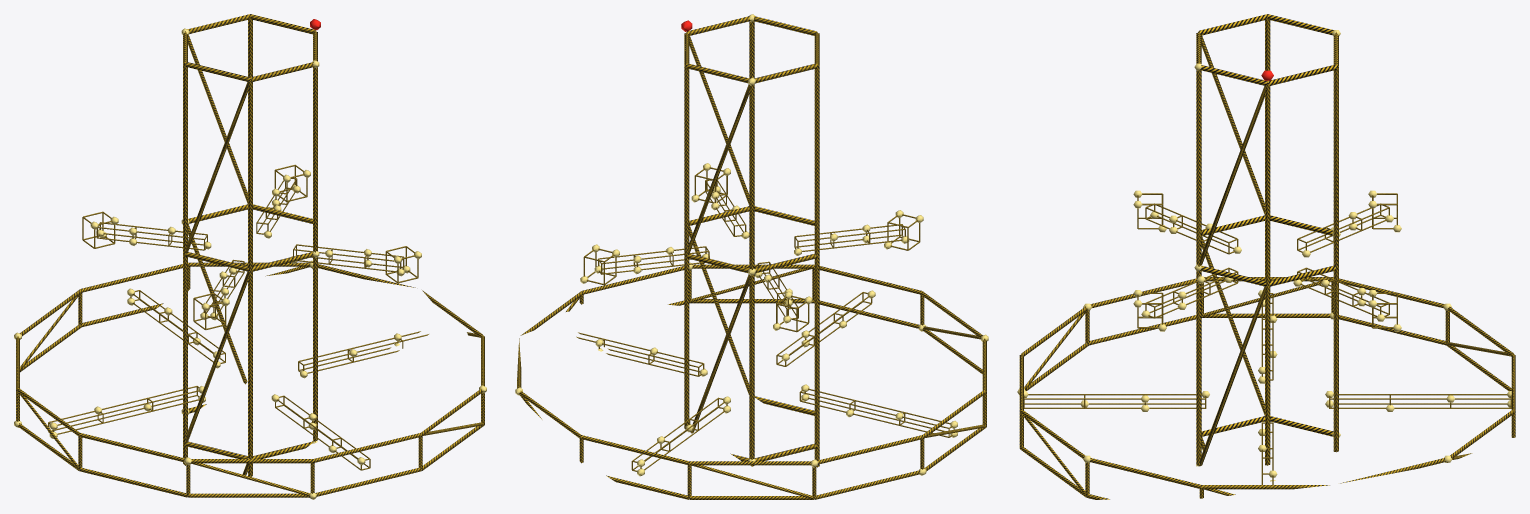
The model's file is guard_station_build1_debris2.obj.
The picture shows the model from 3 angles, left to right: view 1: azimuth 30°, elevation 25°; view 2: azimuth 150°, elevation 25°; view 3: azimuth 270°, elevation 25°; orthographic projection. The views are drawn at different scales.
Visible parts, largest first — view 1: girder, post, brace, work_light; view 2: girder, post, brace, work_light; view 3: post, girder, brace, work_light.
Boxes of the visible parts, bbox=[...] form: girder: bbox=[16, 14, 484, 497]; post: bbox=[16, 17, 484, 496]; brace: bbox=[18, 35, 483, 496]; work_light: bbox=[14, 28, 486, 499]; girder: bbox=[517, 16, 986, 499]; post: bbox=[519, 21, 986, 498]; brace: bbox=[519, 36, 984, 498]; work_light: bbox=[515, 14, 988, 476]; post: bbox=[1019, 17, 1515, 498]; girder: bbox=[1019, 14, 1515, 499]; brace: bbox=[1022, 36, 1510, 495]; work_light: bbox=[1017, 30, 1511, 481].
Bounding box in the file's own units: 225 × 218 × 225.
4 materials, 1 textured.
